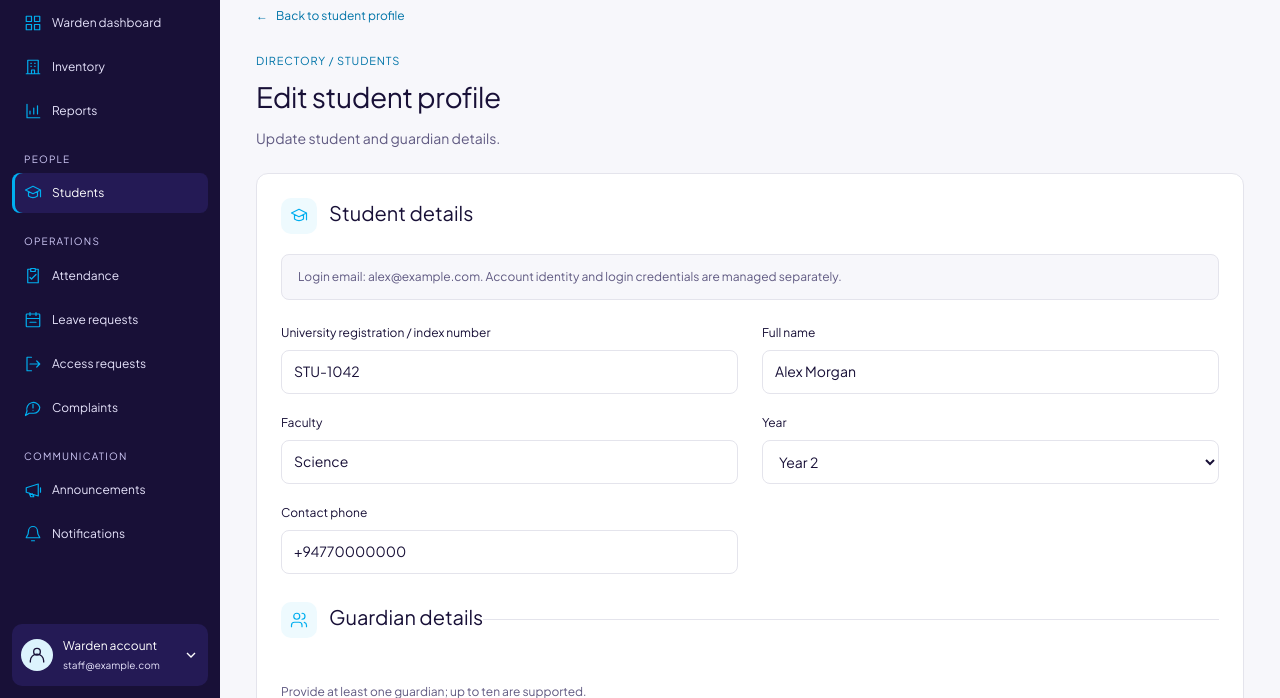
Test case: add and edit student profiles › prefills edits and submits only editable details
The image size is (1280, 698).
Replace the text in the field labelled "Full name" with "Alex Updated". click: (990, 372)
box: [762,350,1219,394]
(page scrolled)
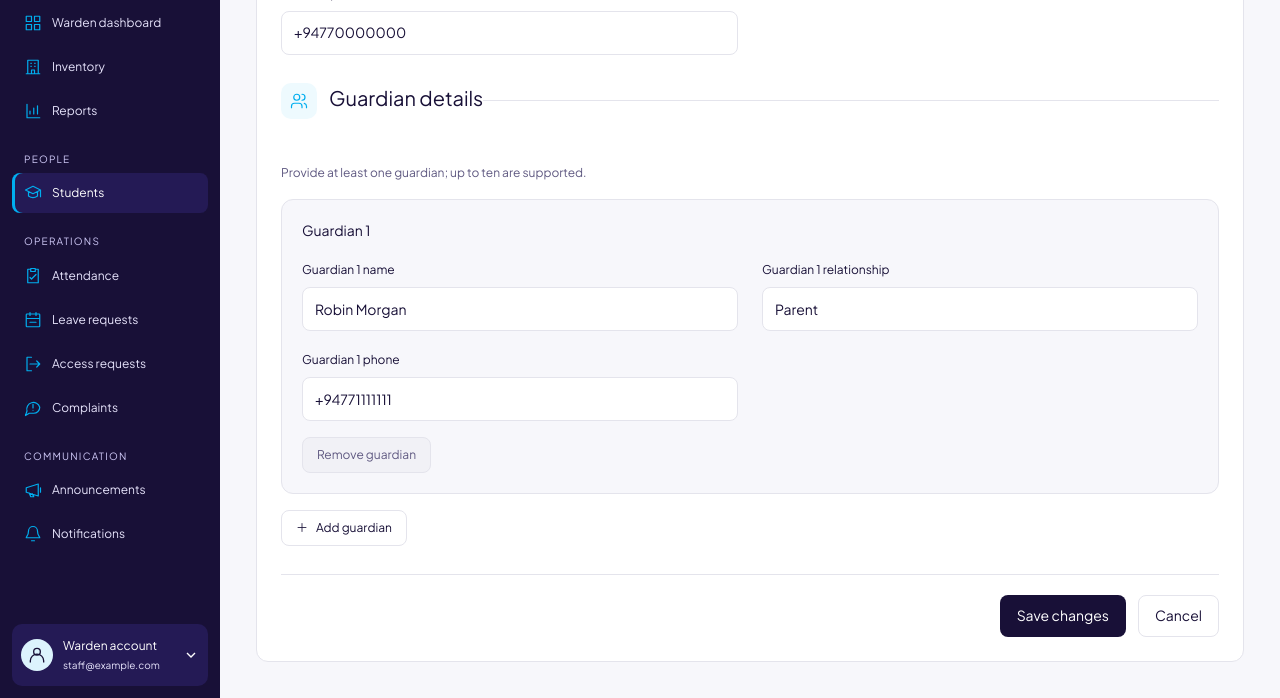
Click the button "Save changes". click: (1063, 616)
box: [1000,595,1126,637]
(page scrolled)
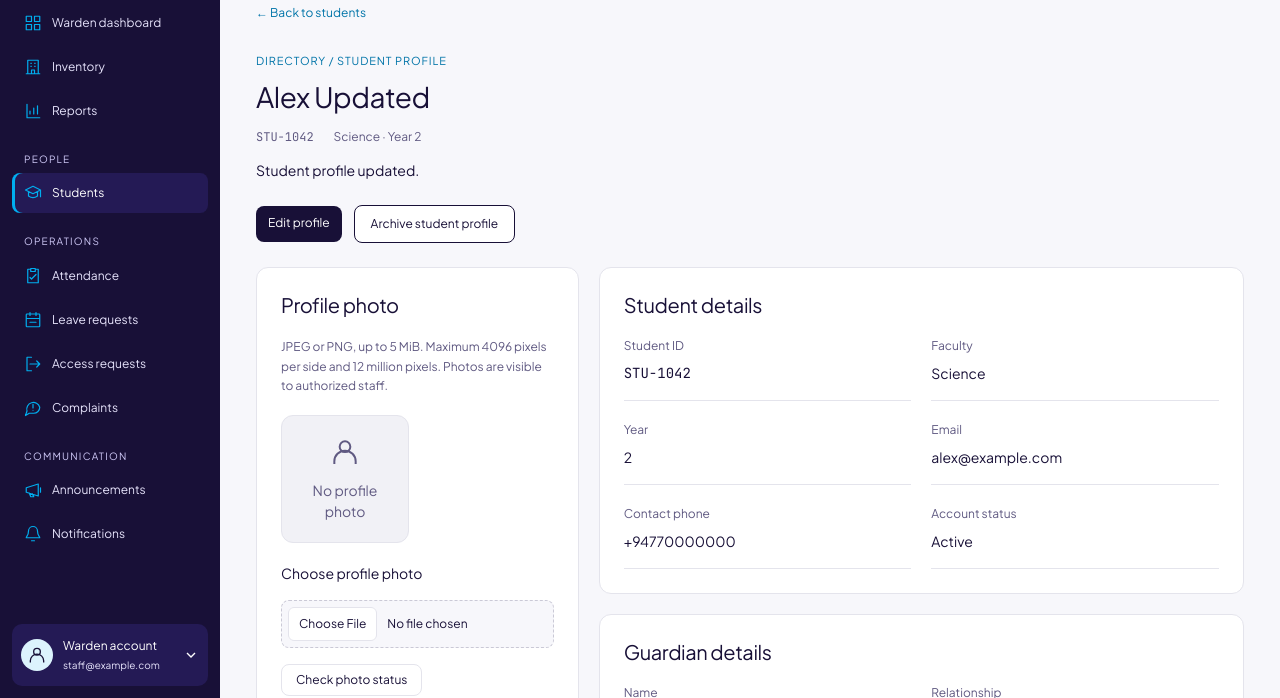
expect the text "Student profile updated." is shown: met, box [256,161,419,179]
expect the heading "Alex Updated" is shown: met, box [256,79,430,114]
